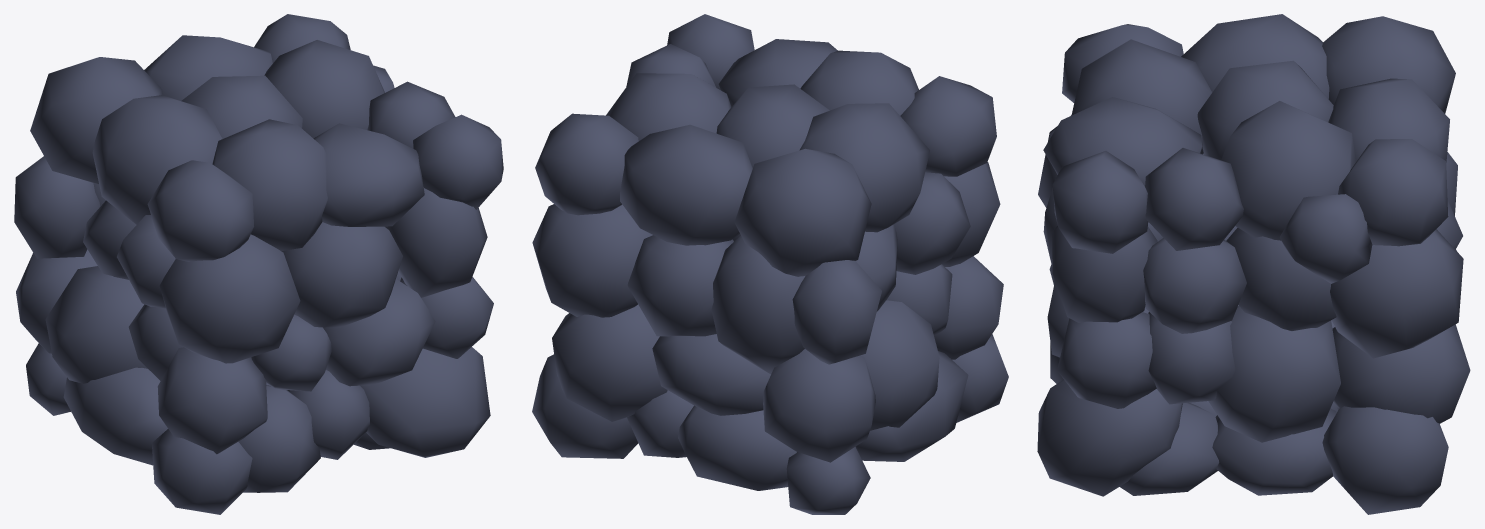
3 renders of one model, left to right at view 1: azimuth 30°, elevation 25°; view 2: azimuth 150°, elevation 25°; view 3: azimuth 270°, elevation 25°, orthographic. The views are drawn at different scales.
Parts seen in each view (by area): view 1: Spheres_05; view 2: Spheres_05; view 3: Spheres_05.
Part boxes in pixels (x1,y1,x2,y2): Spheres_05: (14, 14, 503, 514); Spheres_05: (532, 14, 1008, 514); Spheres_05: (1037, 14, 1470, 514).
Size of the model in its own units: 229 by 219 by 226.
Materials: 1 (1 with a texture image).
